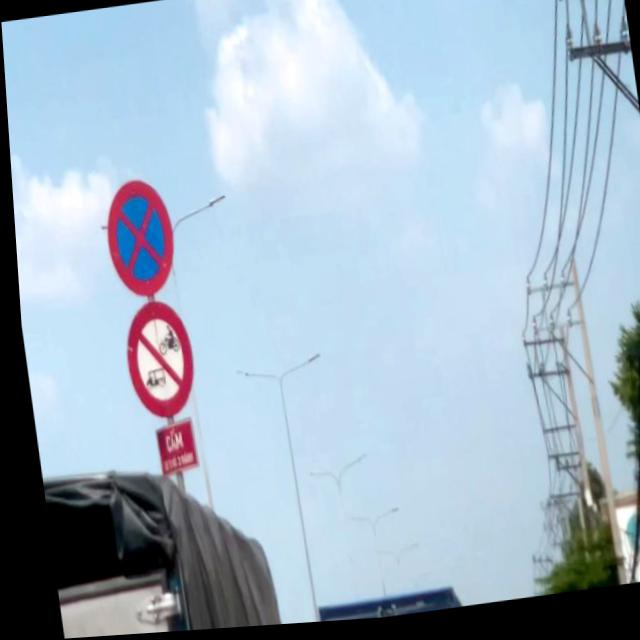Cam dung xe va do xe: (94, 172, 182, 308)
